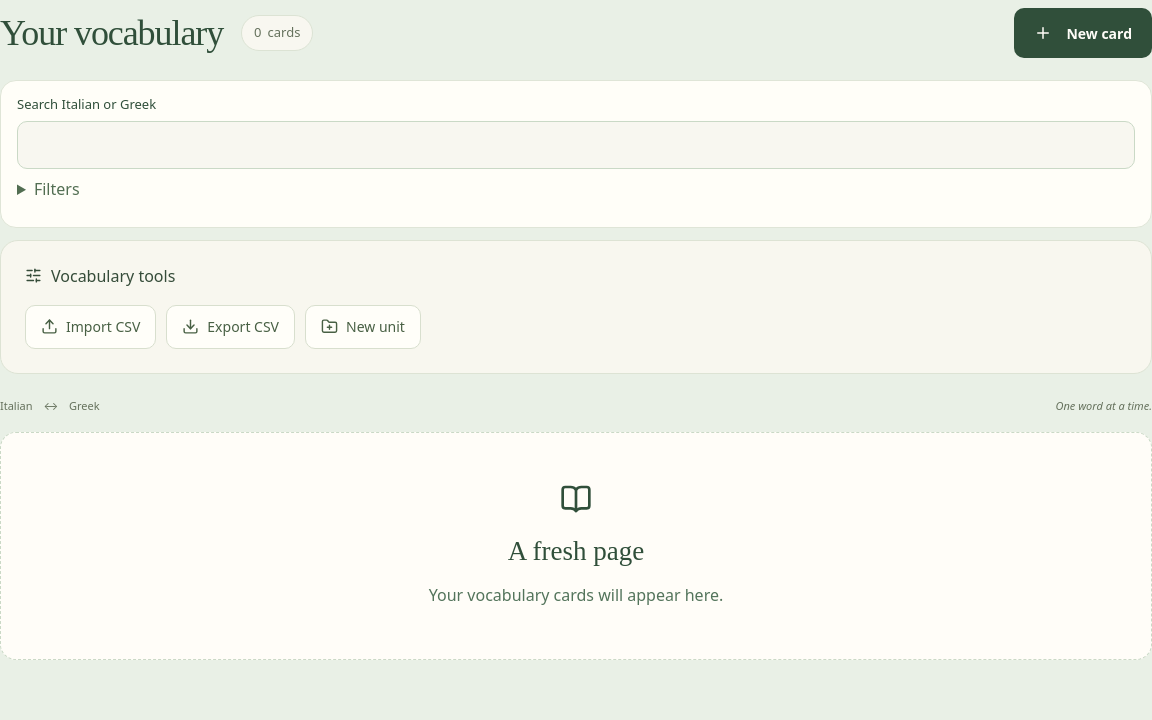
download the entire library and announce that the download started
Type "missing" into the search field at (576, 144), box [17, 120, 1135, 168]
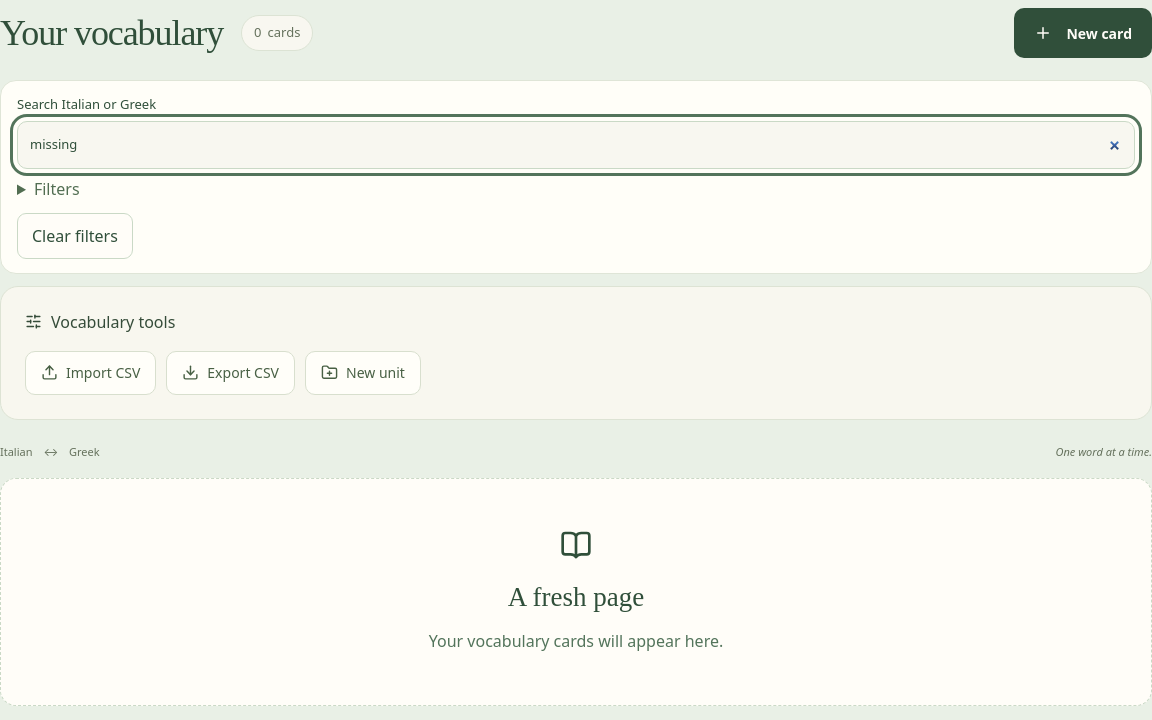
Click the button with aria-label "Export full library (CSV)" at (231, 373), box [166, 351, 295, 395]
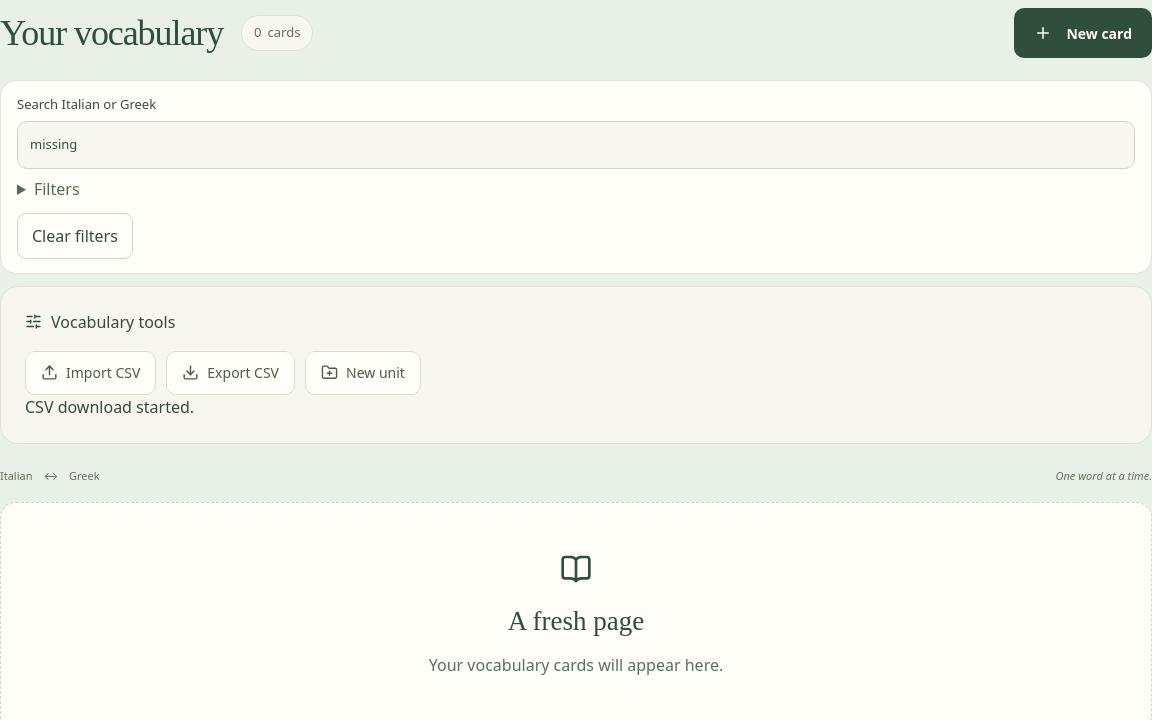
Result: the message reads "CSV download started." at [25, 396, 194, 418]
